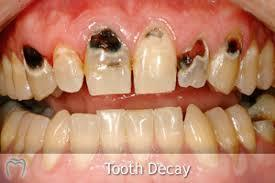cavity: (79, 25, 137, 98), (128, 21, 179, 98), (203, 28, 244, 99), (182, 101, 220, 172), (19, 38, 58, 102), (40, 109, 77, 175), (174, 31, 211, 96), (122, 102, 156, 165), (69, 111, 102, 174), (48, 37, 84, 94), (94, 105, 128, 165), (222, 98, 259, 152), (204, 105, 241, 157), (152, 105, 184, 165), (232, 36, 261, 100), (243, 93, 275, 147), (7, 45, 35, 104), (0, 107, 26, 158), (25, 112, 49, 167), (254, 38, 275, 92), (13, 111, 34, 163), (0, 52, 19, 103)
